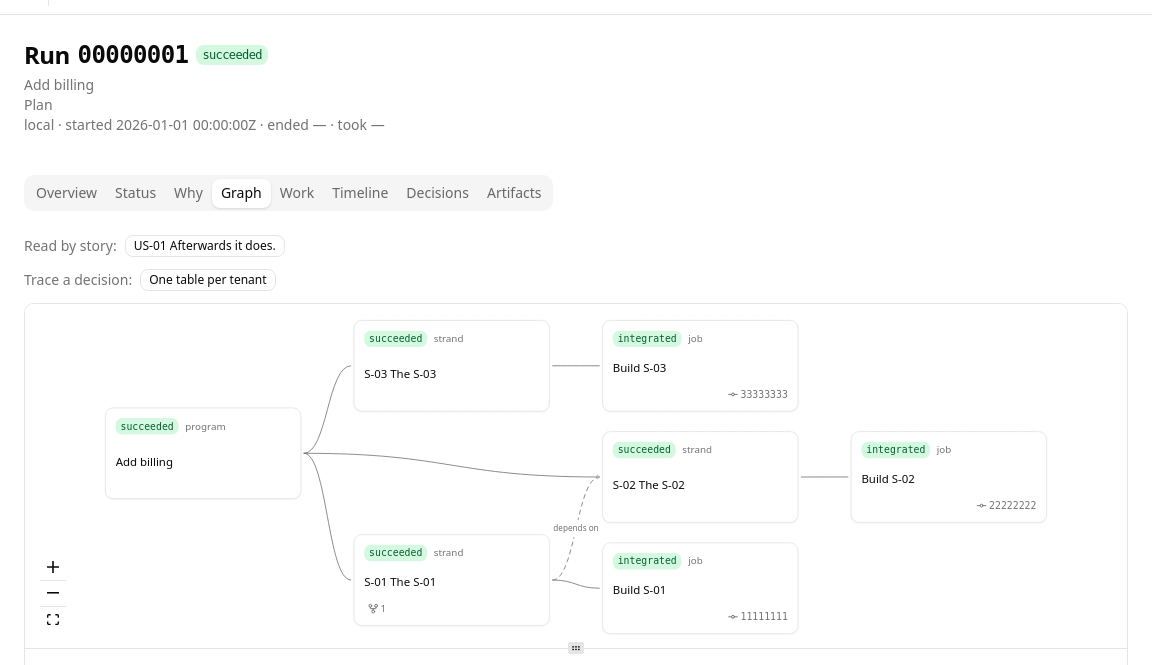
the run graph › draws the run, marks a decision's two sets, and opens a node's detail beneath
Step 1. Click the button "One table per tenant" → (208,280), box x1=140 y1=269 x2=276 y2=291
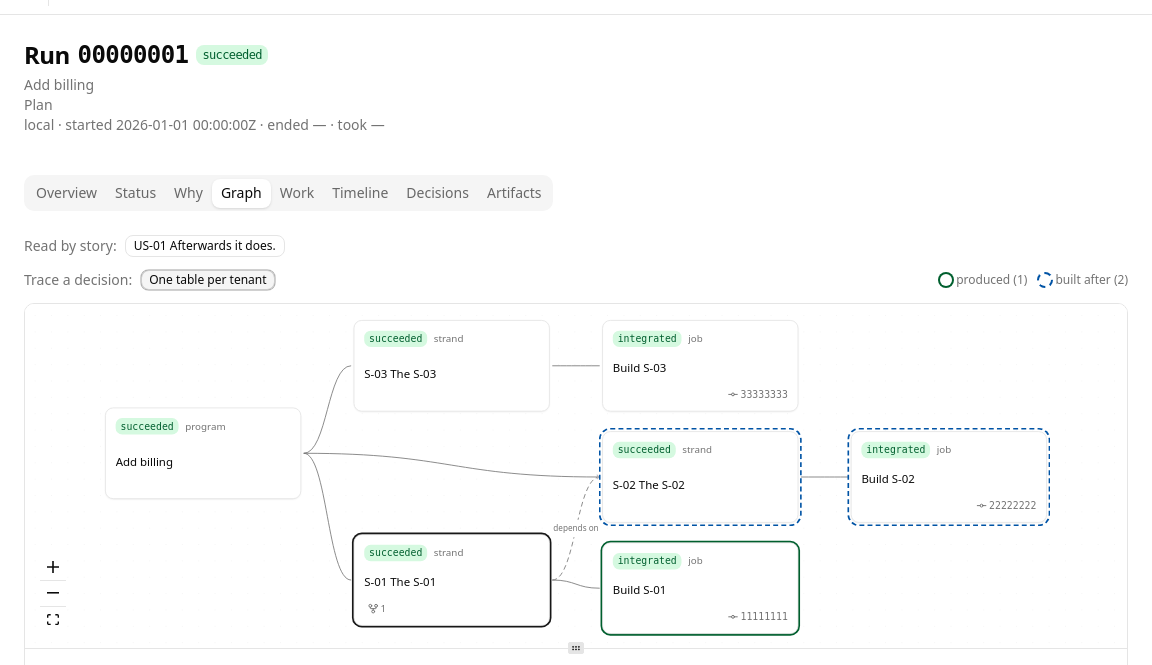
Expected: the element with test id "reach-legend" shows "built after", x1=1055 y1=271 x2=1118 y2=288
Step 2. Click the element showing "integrated job Build S-01 11111111" → (700,588), box x1=602 y1=542 x2=798 y2=634
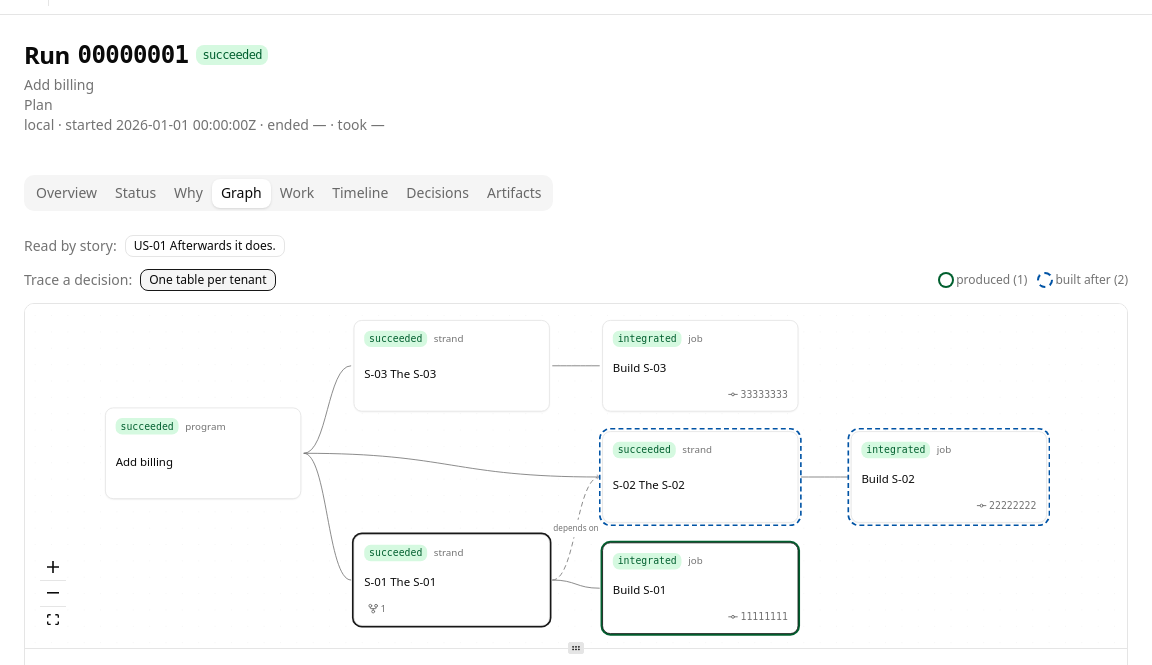
Step 3. Click the element showing "succeeded strand S-02 The S-02" → (700,477), box x1=602 y1=431 x2=798 y2=523
(page scrolled)
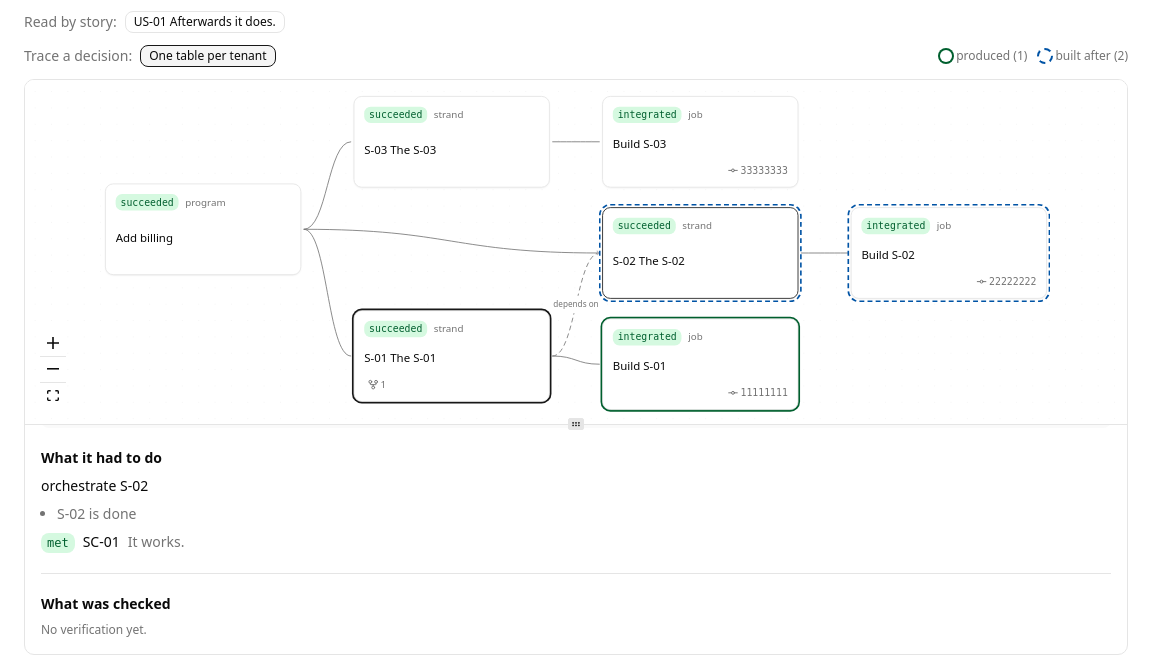
Expected: the list item "S-02 is done" is shown, x1=57 y1=504 x2=136 y2=523
Expected: the list named "Success criteria" shows "SC-01", x1=83 y1=532 x2=120 y2=551
